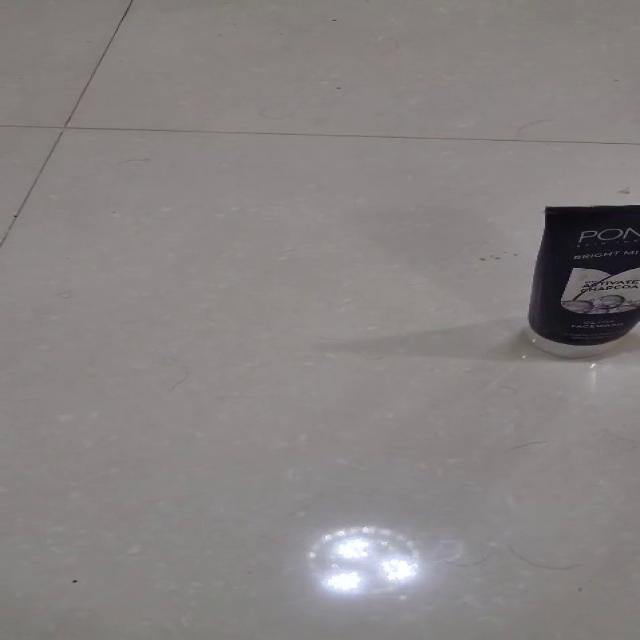plastic: (525, 203, 639, 358)
